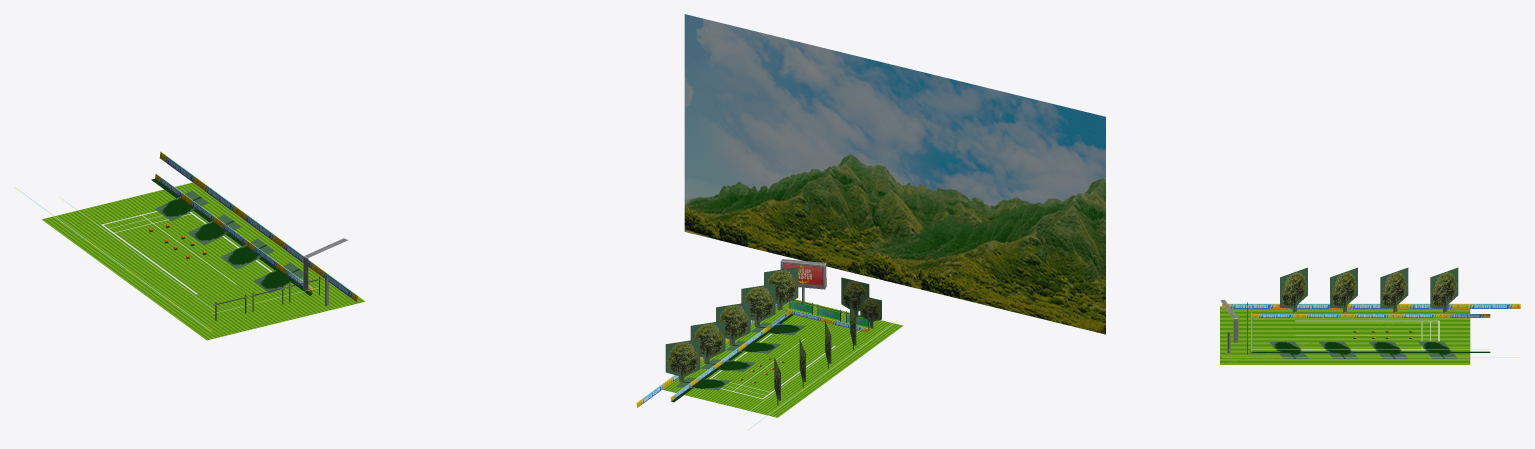
File: EnvironmentA.glb
3 views of the same model, side by side, from view 1: azimuth 30°, elevation 25°; view 2: azimuth 150°, elevation 25°; view 3: azimuth 270°, elevation 25° (orthographic). The views are drawn at different scales.
Visible parts, largest first — view 1: Ground shadow; view 2: Ground shadow; view 3: Ground shadow.
Boxes of the visible parts, x1,y1,x2,y2 form: Ground shadow: (15,151,365,340); Ground shadow: (636,14,1105,429); Ground shadow: (1220,267,1520,364).
Size of the model in its own units: 118 by 59.37 by 94.23.
2 materials, 2 textured.
